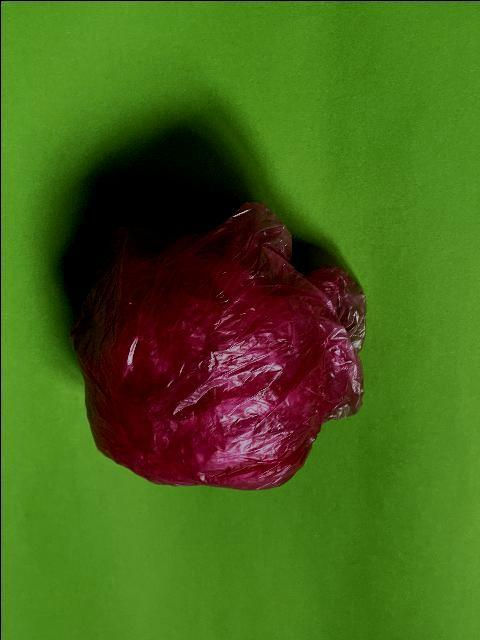plasticbag: (66, 200, 366, 492)
